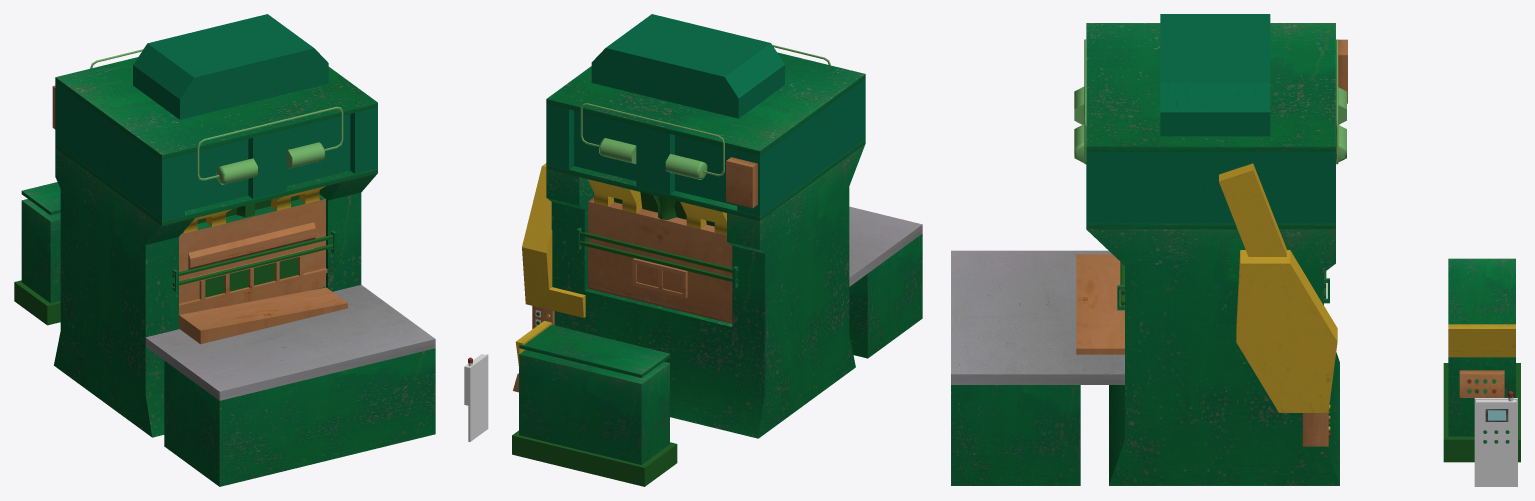
3 views of the same model, side by side, from view 1: azimuth 30°, elevation 25°; view 2: azimuth 150°, elevation 25°; view 3: azimuth 270°, elevation 25° (orthographic). The views are drawn at different scales.
Visible parts, largest first — view 1: 500chongbeiji; view 2: 500chongbeiji; view 3: 500chongbeiji.
Boxes of the visible parts, bbox=[...] form: 500chongbeiji: bbox=[14, 14, 435, 486]; 500chongbeiji: bbox=[464, 14, 922, 486]; 500chongbeiji: bbox=[951, 14, 1520, 486].
Size of the model in its own units: 6.22 by 8.17 by 10.91.
11 materials, 6 textured.
